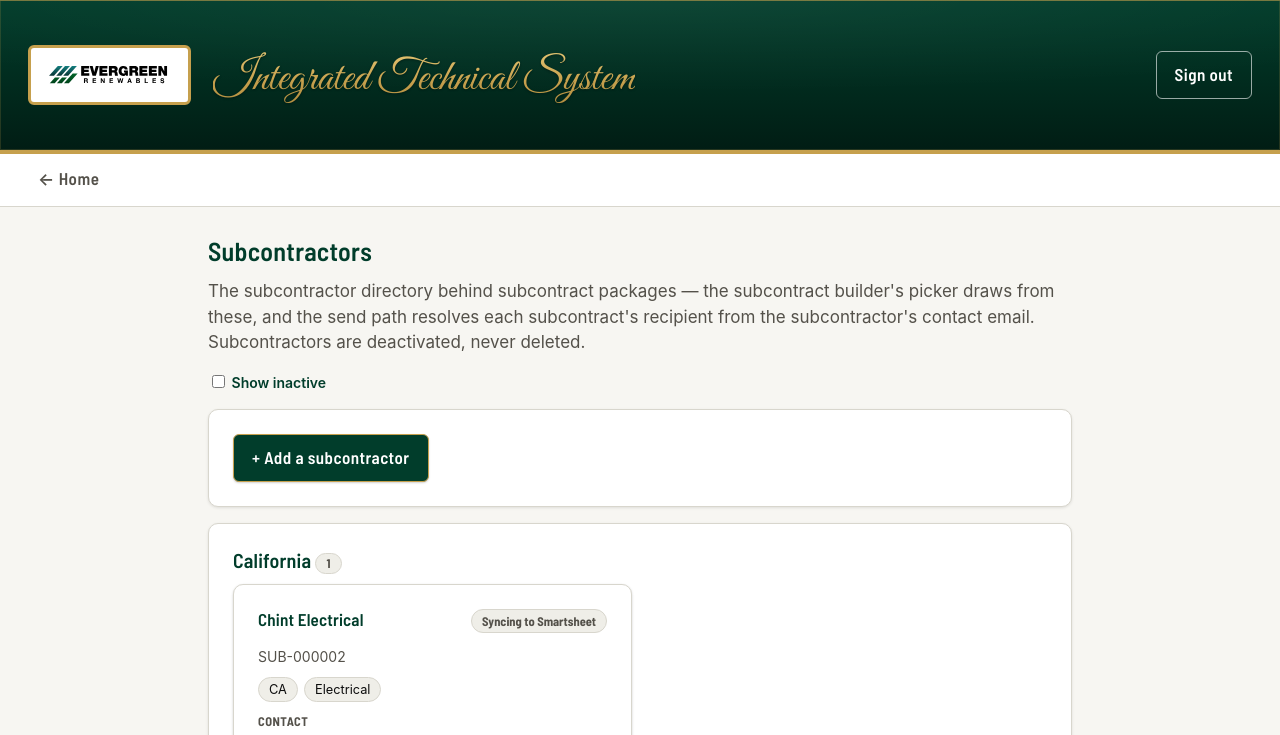
SubcontractorsPage › the trade chips are fed by the served (manifest-derived) trade list, not a hardcoded one
Click the button "+ Add a subcontractor".
click(331, 458)  # box [233,434,428,482]
(page scrolled)
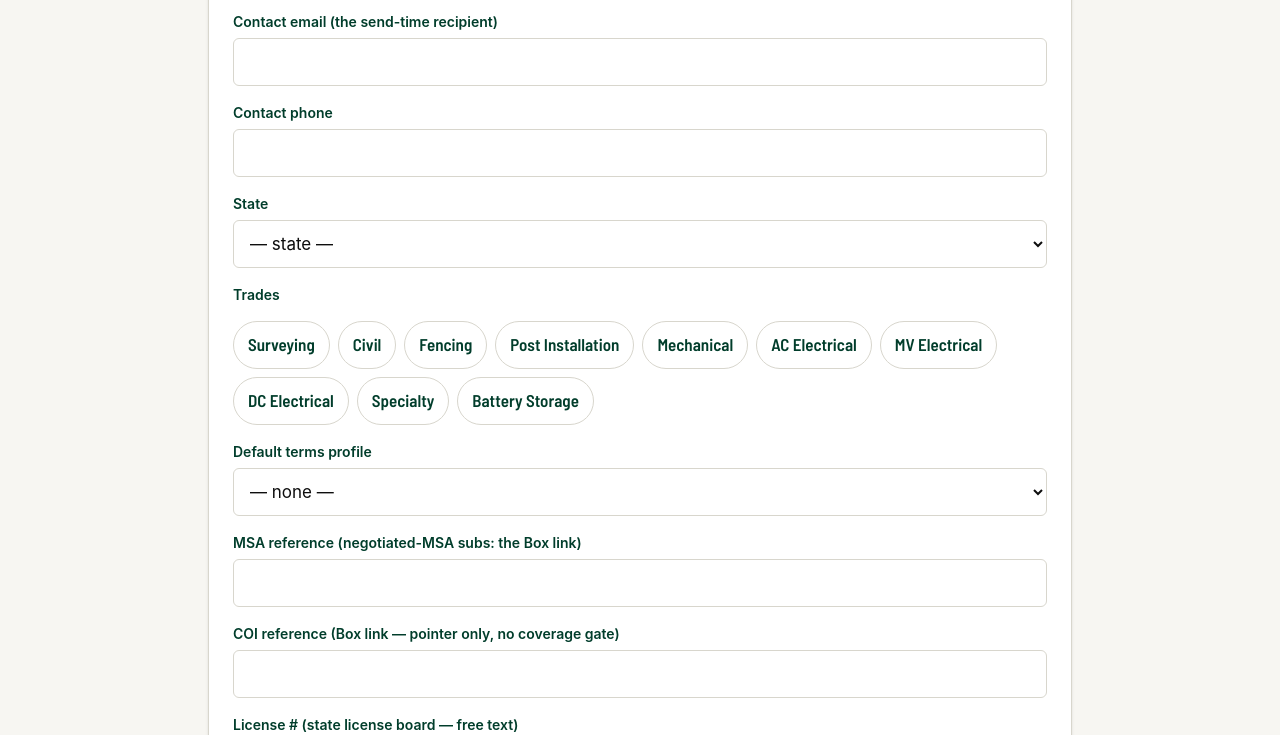
Expected: the button "Battery Storage" is shown, [457,377,594,425]
